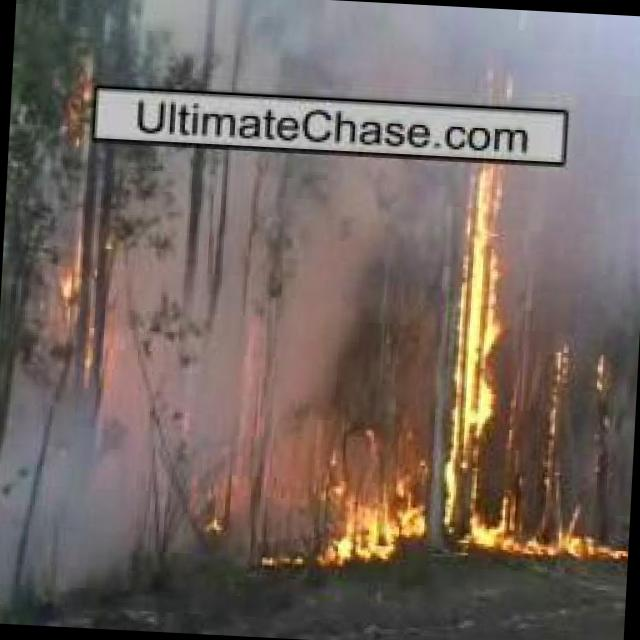Fire: (432, 162, 512, 560), (298, 472, 434, 564), (52, 246, 121, 380), (504, 502, 624, 568), (544, 341, 572, 474), (199, 473, 229, 545), (68, 76, 102, 138), (594, 353, 610, 408)
Smoke: (104, 150, 444, 458), (150, 0, 640, 109), (0, 380, 199, 621)
